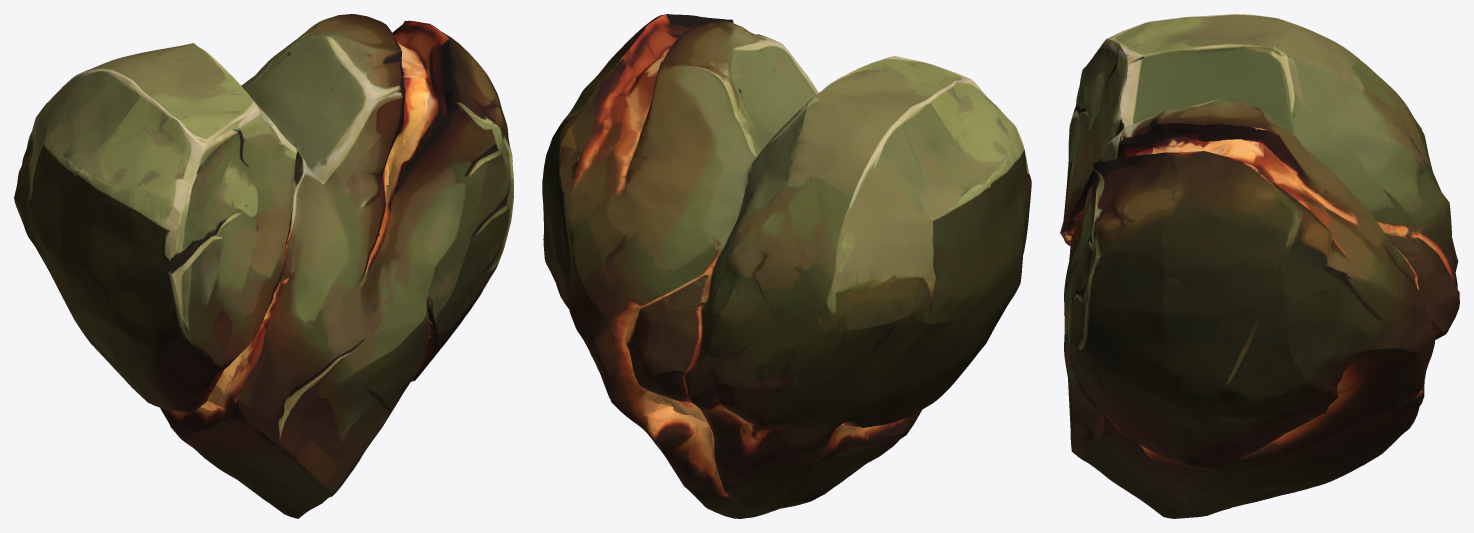
File: item_flame_wolf_heart.glb
3 views of the same model, side by side, from view 1: azimuth 30°, elevation 25°; view 2: azimuth 150°, elevation 25°; view 3: azimuth 270°, elevation 25° (orthographic).
Visible parts, largest first — view 1: item_flame_wolf_heart; view 2: item_flame_wolf_heart; view 3: item_flame_wolf_heart.
Part boxes in pixels (x1=…): item_flame_wolf_heart: x1=14, y1=14, x2=513, y2=518; item_flame_wolf_heart: x1=542, y1=14, x2=1031, y2=518; item_flame_wolf_heart: x1=1060, y1=14, x2=1459, y2=518.
Size of the model in its own units: 0.1358 by 0.14 by 0.1134.
1 material, 1 textured.
